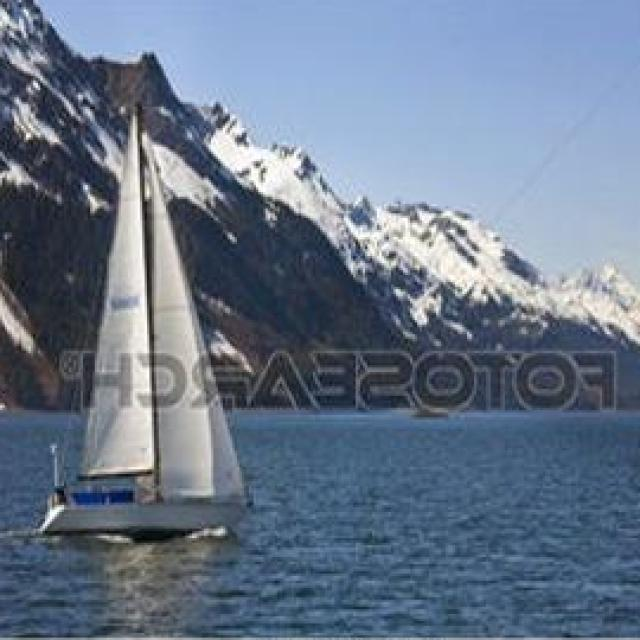sailboat: (38, 99, 251, 542)
